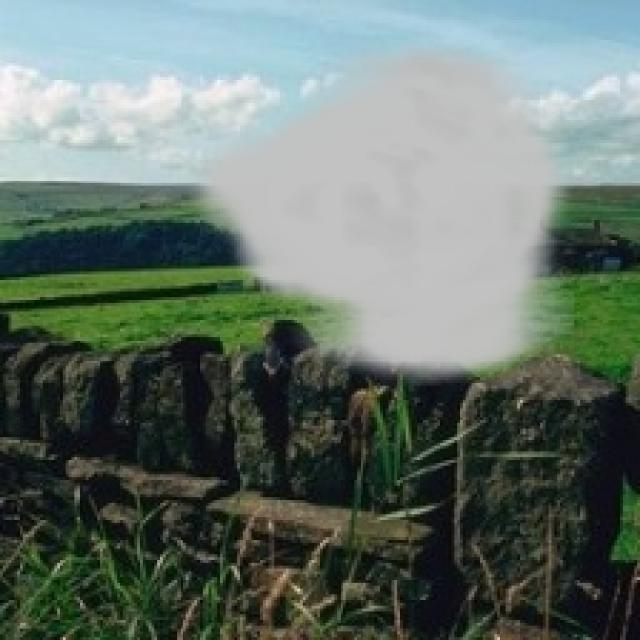smoke: (189, 31, 574, 386)
